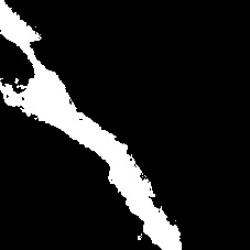crack: (0, 2, 183, 249)
